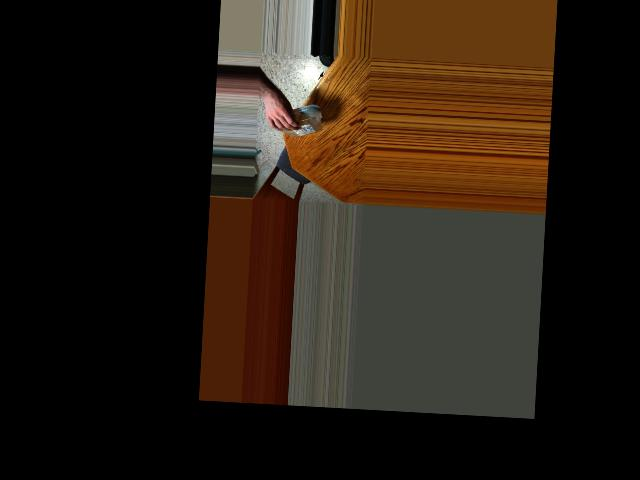cheese: (271, 101, 310, 136)
